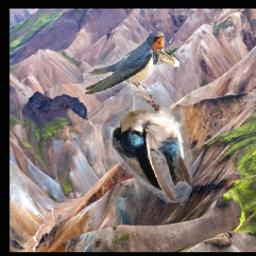Cuckoo: (153, 50, 183, 69)
Swallow: (112, 92, 193, 204), (84, 31, 166, 94)
